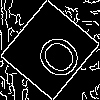O: (25, 24, 86, 84)
